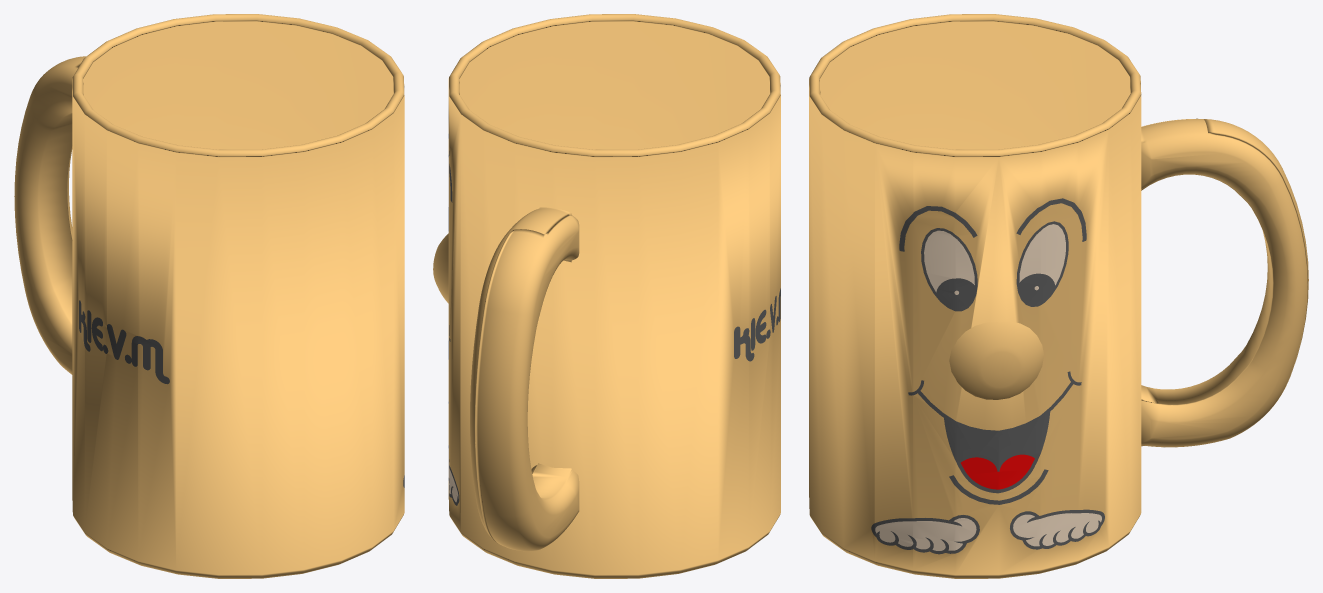
3 renders of one model, left to right at view 1: azimuth 30°, elevation 25°; view 2: azimuth 150°, elevation 25°; view 3: azimuth 270°, elevation 25°, orthographic.
Visible parts, largest first — view 1: mesh3_mesh3-geometry_1, mesh1_mesh1-geometry, mesh3_mesh3-geometry; view 2: mesh3_mesh3-geometry_1, mesh1_mesh1-geometry, mesh3_mesh3-geometry, mesh2_mesh2-geometry_1; view 3: mesh3_mesh3-geometry_1, mesh1_mesh1-geometry, mesh3_mesh3-geometry, mesh3_mesh3-geometry_2, mesh2_mesh2-geometry_1, mesh3_mesh3-geometry_3.
Boxes of the visible parts, x1=… form: mesh3_mesh3-geometry_1: x1=72, y1=14, x2=404, y2=578; mesh1_mesh1-geometry: x1=14, y1=56, x2=85, y2=374; mesh3_mesh3-geometry: x1=79, y1=300, x2=404, y2=487; mesh3_mesh3-geometry_1: x1=448, y1=14, x2=780, y2=578; mesh1_mesh1-geometry: x1=470, y1=207, x2=579, y2=551; mesh3_mesh3-geometry: x1=448, y1=134, x2=780, y2=505; mesh2_mesh2-geometry_1: x1=433, y1=233, x2=448, y2=303; mesh3_mesh3-geometry_1: x1=809, y1=14, x2=1141, y2=578; mesh1_mesh1-geometry: x1=1141, y1=118, x2=1308, y2=447; mesh3_mesh3-geometry: x1=871, y1=198, x2=1104, y2=554; mesh3_mesh3-geometry_2: x1=875, y1=224, x2=1101, y2=550; mesh2_mesh2-geometry_1: x1=949, y1=321, x2=1043, y2=399; mesh3_mesh3-geometry_3: x1=961, y1=454, x2=1034, y2=489.
Bounding box in the file's own units: 0.4598 × 0.6111 × 0.6443.
